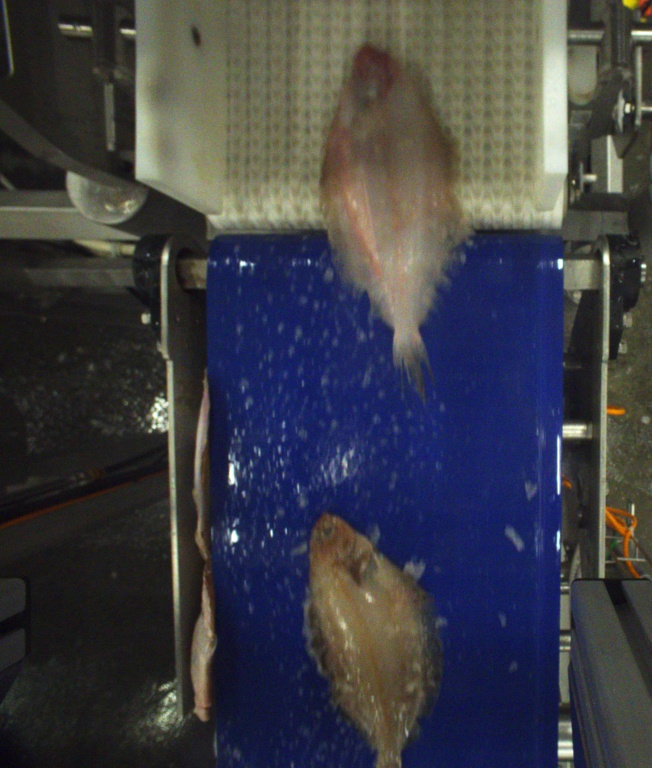WIT: (316, 41, 465, 398)
